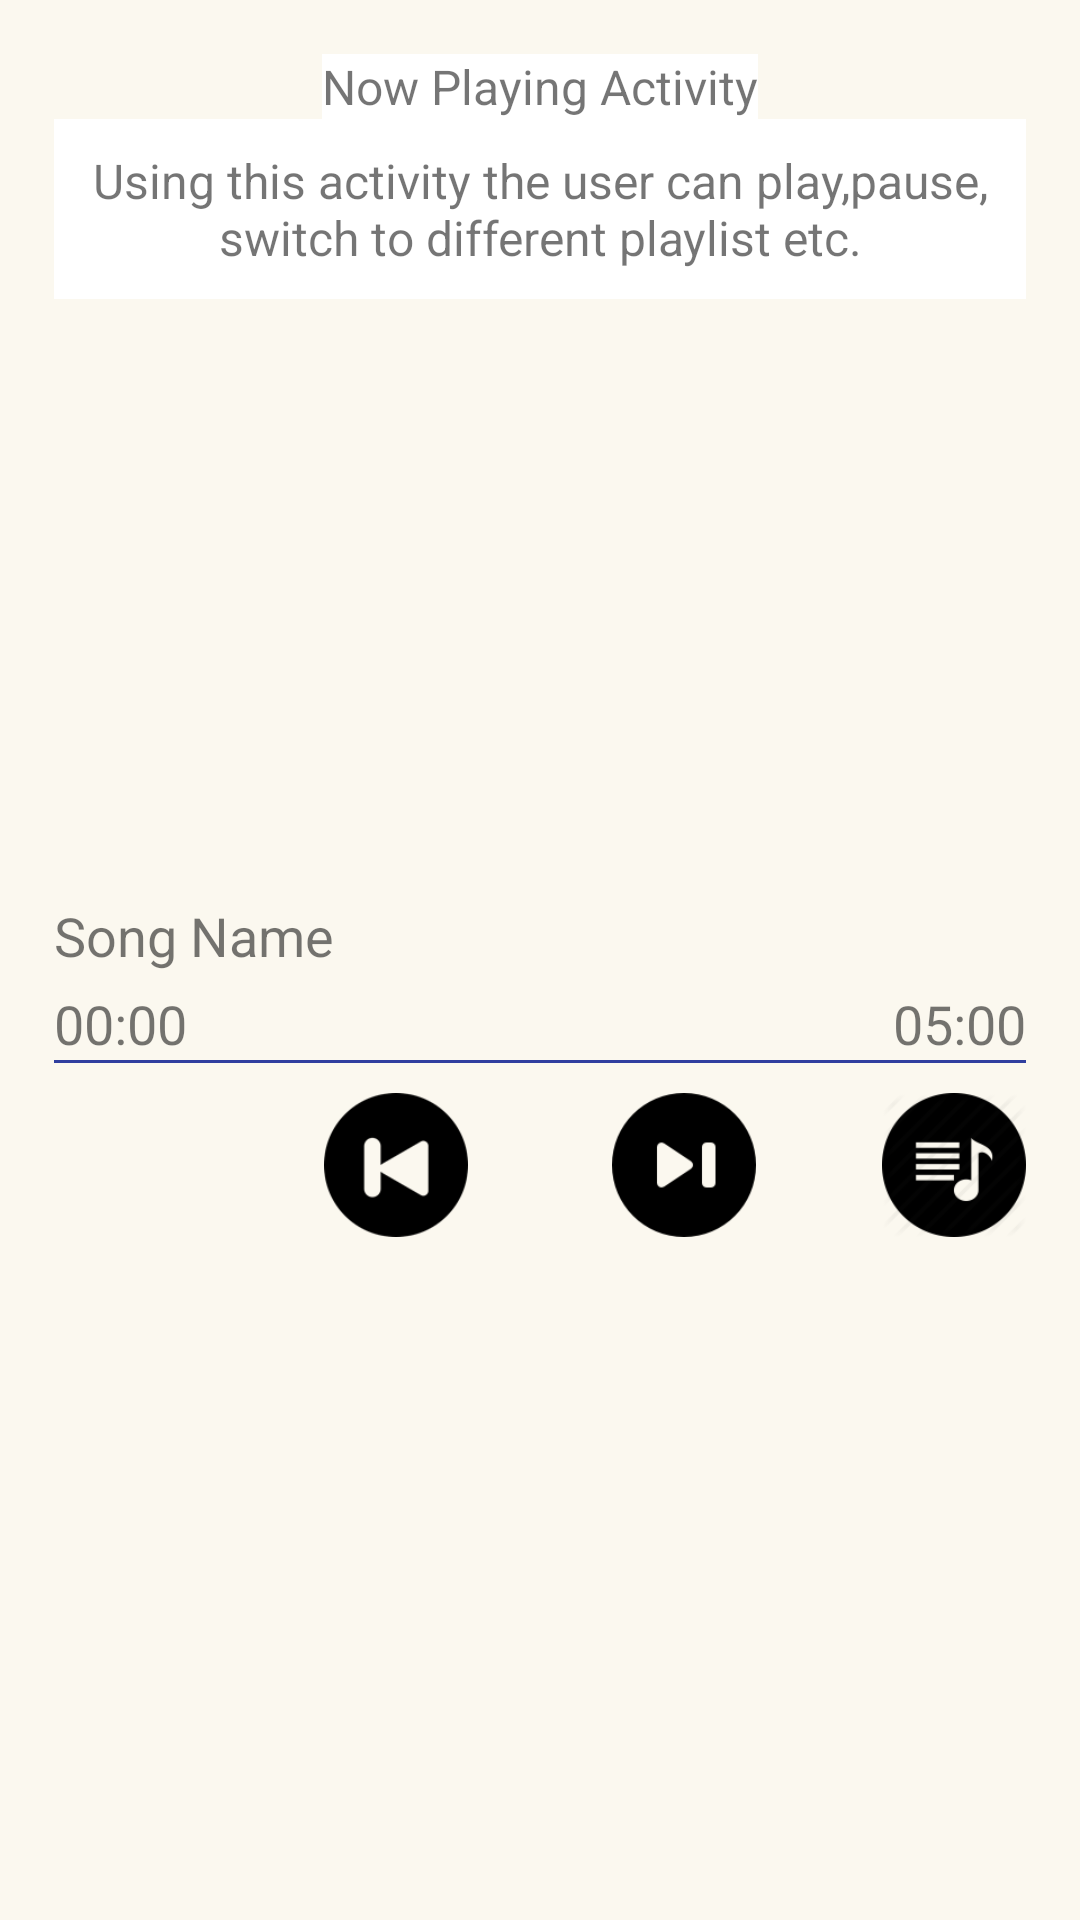

Screen size 1080 x 1920. Icon name, then its box in pixels as {"left": x1, "top": y1, "right": x2, "bottom": y2}:
next: {"left": 612, "top": 1093, "right": 756, "bottom": 1237}
playlist: {"left": 882, "top": 1093, "right": 1026, "bottom": 1237}
previous: {"left": 324, "top": 1093, "right": 468, "bottom": 1237}
